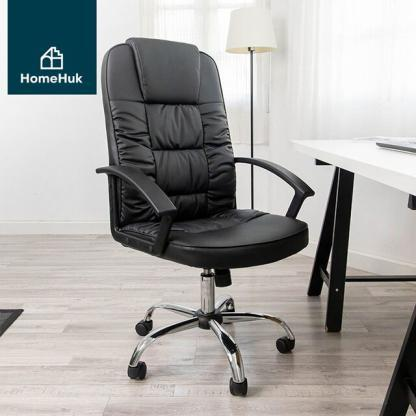chair: (85, 30, 315, 399)
light: (227, 4, 278, 211)
table: (292, 134, 416, 416)
